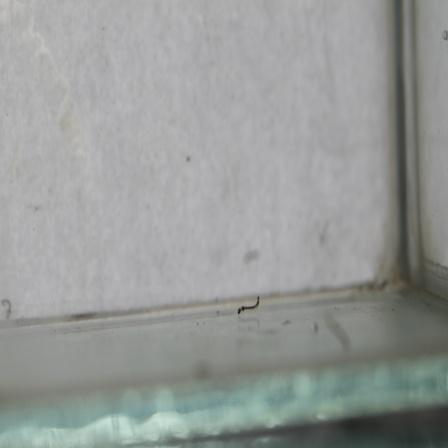Jentik-Nyamuk: (233, 292, 263, 317)
